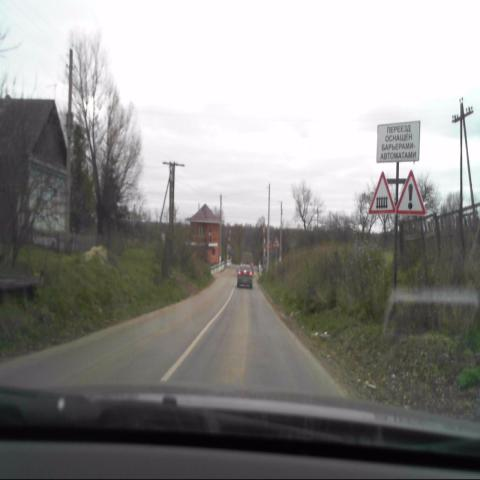1_1: (368, 170, 396, 213)
1_33: (396, 169, 425, 214)
